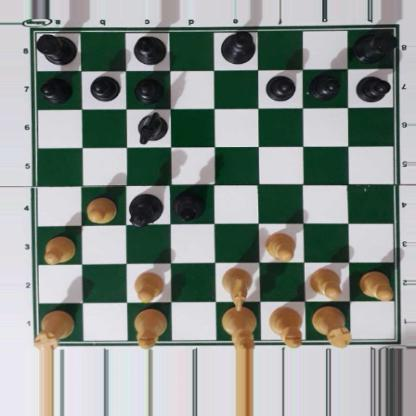black-bishop: (172, 189, 205, 221), (132, 34, 167, 63)
black-king: (218, 30, 256, 65)
black-knight: (136, 111, 166, 142)
black-pawn: (356, 73, 389, 102), (89, 74, 118, 101), (266, 73, 295, 100), (310, 73, 340, 99), (40, 76, 71, 101), (134, 75, 162, 102)
black-queen: (126, 192, 163, 228)
black-rook: (354, 26, 395, 62), (33, 31, 76, 65)
white-bishop: (267, 306, 304, 349), (135, 307, 168, 349)
white-king: (221, 304, 259, 351)
white-knight: (221, 267, 253, 309)
white-pawn: (308, 266, 344, 297), (358, 269, 393, 299), (84, 195, 118, 224), (133, 270, 164, 301), (265, 231, 296, 261), (42, 235, 75, 263)
white-rook: (311, 308, 353, 348), (36, 306, 73, 350)
